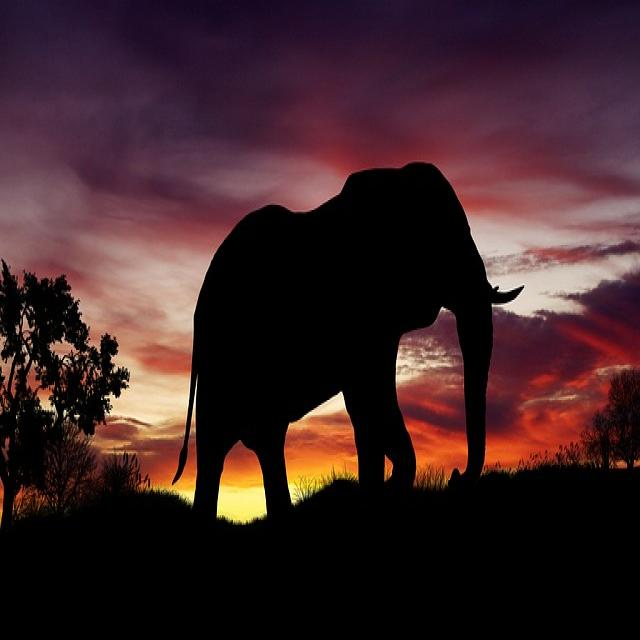elephant: (176, 162, 520, 519)
